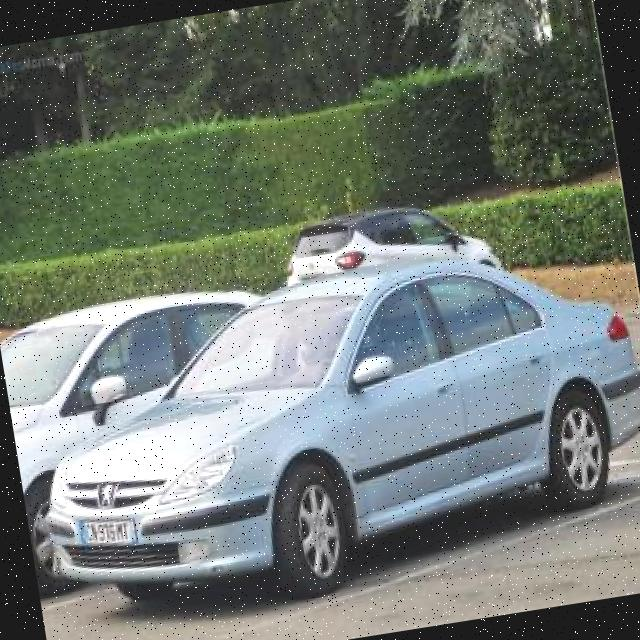Autre: (78, 506, 148, 550)
